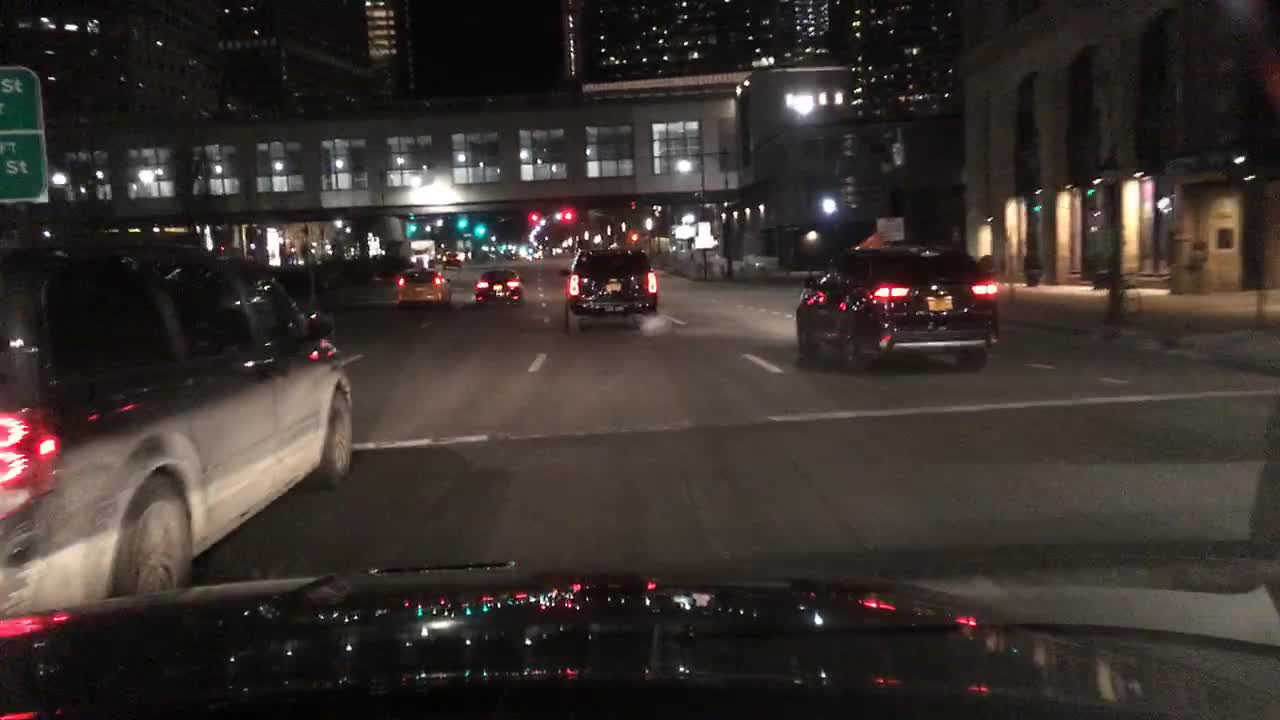car: (1, 233, 355, 607), (798, 243, 997, 367), (562, 245, 658, 334), (396, 264, 453, 311), (473, 268, 523, 310), (439, 248, 464, 268)
traffic light: (560, 208, 571, 231), (629, 229, 638, 246), (530, 210, 537, 229), (476, 224, 483, 242), (406, 221, 413, 238), (457, 219, 462, 235)
traffic sign: (1, 65, 48, 205), (873, 219, 904, 238), (671, 223, 692, 241), (694, 218, 710, 239), (694, 237, 717, 249)
